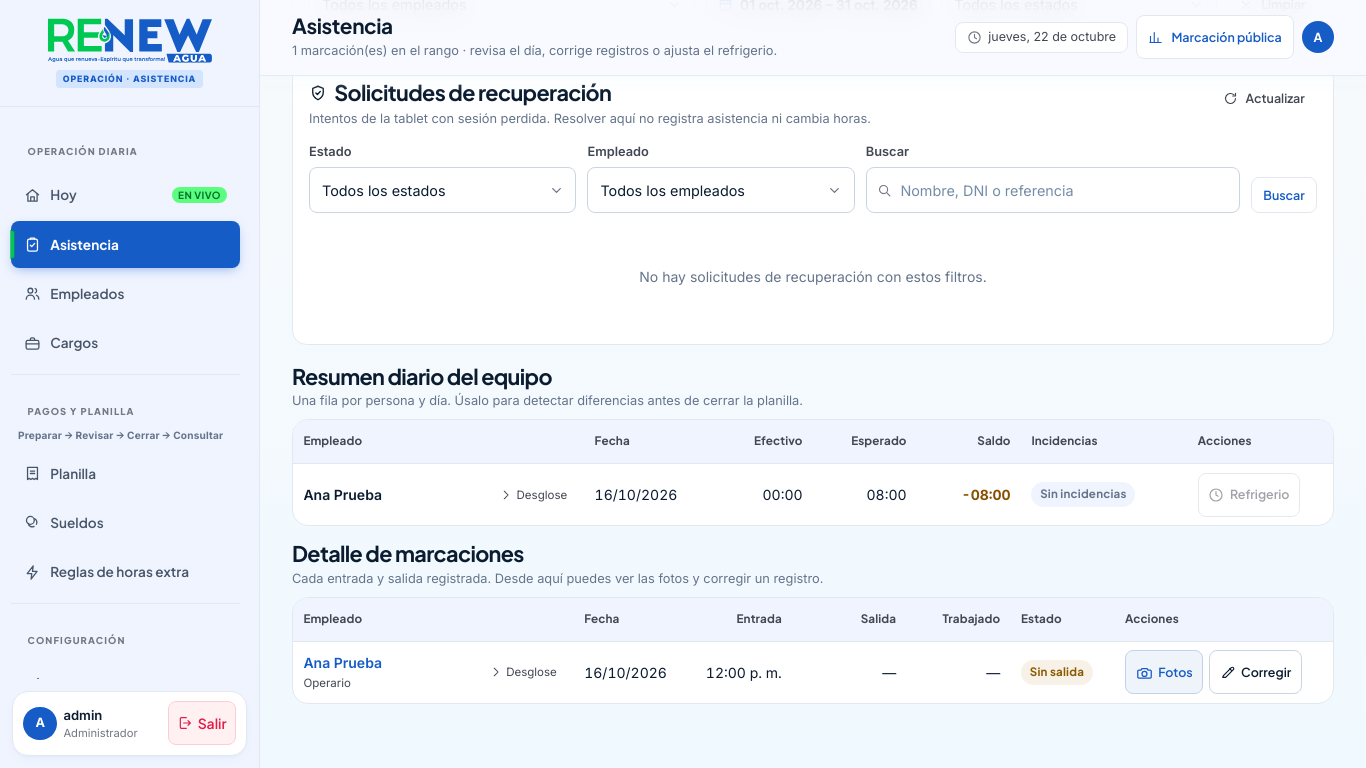
Admin — visor privado de evidencia › muestra un solo vacío honesto cuando el registro no tiene fotos
(page scrolled)
Click the button with aria-label "ver fotos de ana prueba": (1164, 672) [1125,650,1203,694]
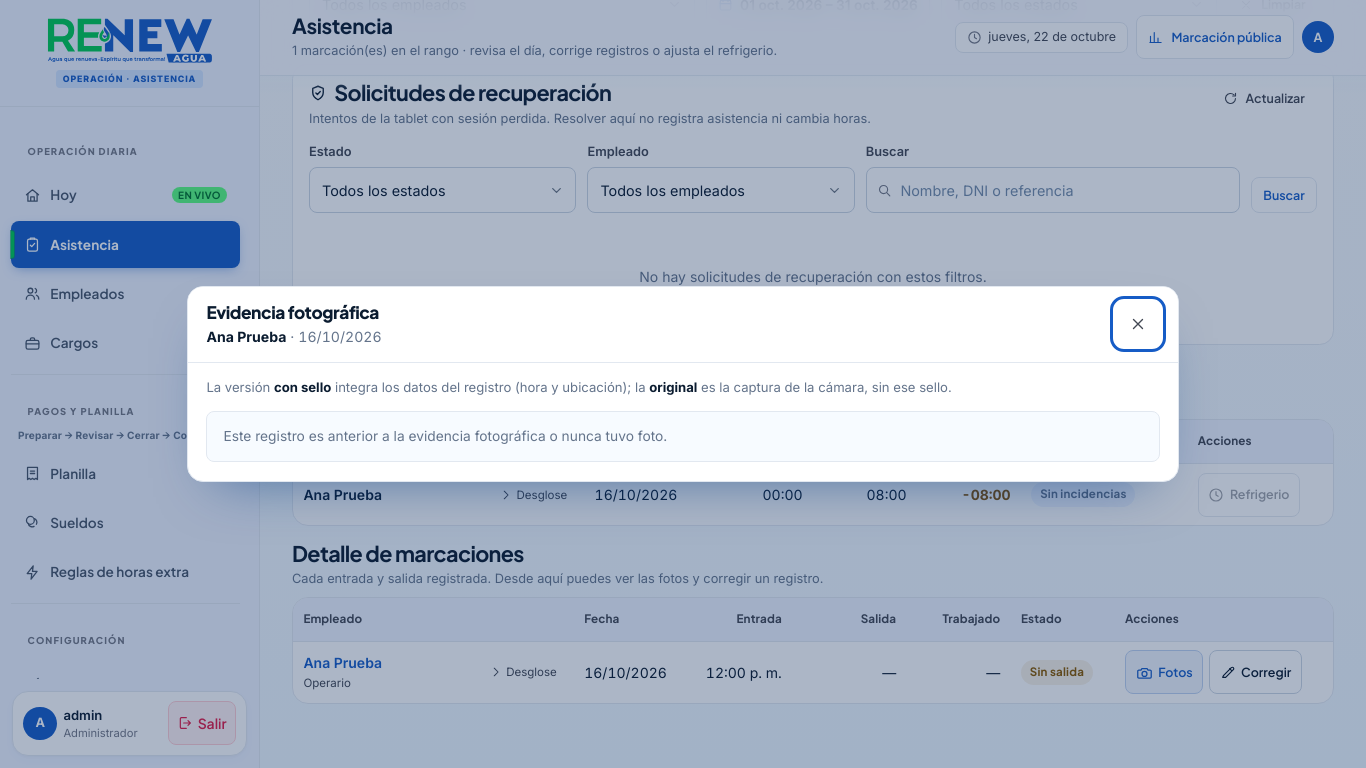
Check: the text "Este registro es anterior a la evidencia fotográfica o nunca tuvo foto." is shown, box [206,411,1160,462]
